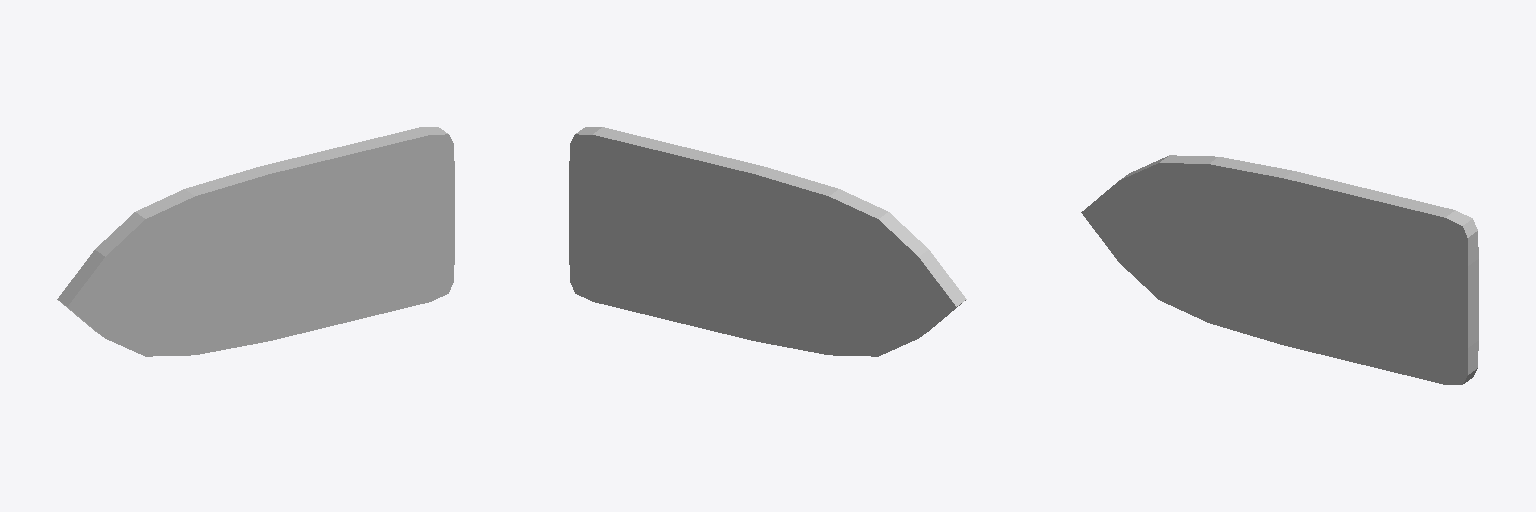
File: Sign-Left.obj
3 renders of one model, left to right at view 1: azimuth 30°, elevation 25°; view 2: azimuth 150°, elevation 25°; view 3: azimuth 330°, elevation 25°, orthographic.
Parts seen in each view (by area): view 1: Sign-Left_Plane.004; view 2: Sign-Left_Plane.004; view 3: Sign-Left_Plane.004.
Boxes of the visible parts, x1,y1,x2,y2 form: Sign-Left_Plane.004: [57, 127, 454, 356]; Sign-Left_Plane.004: [569, 127, 966, 356]; Sign-Left_Plane.004: [1081, 155, 1478, 384].
Bounding box in the file's own units: 1.3 × 0.5362 × 0.06.